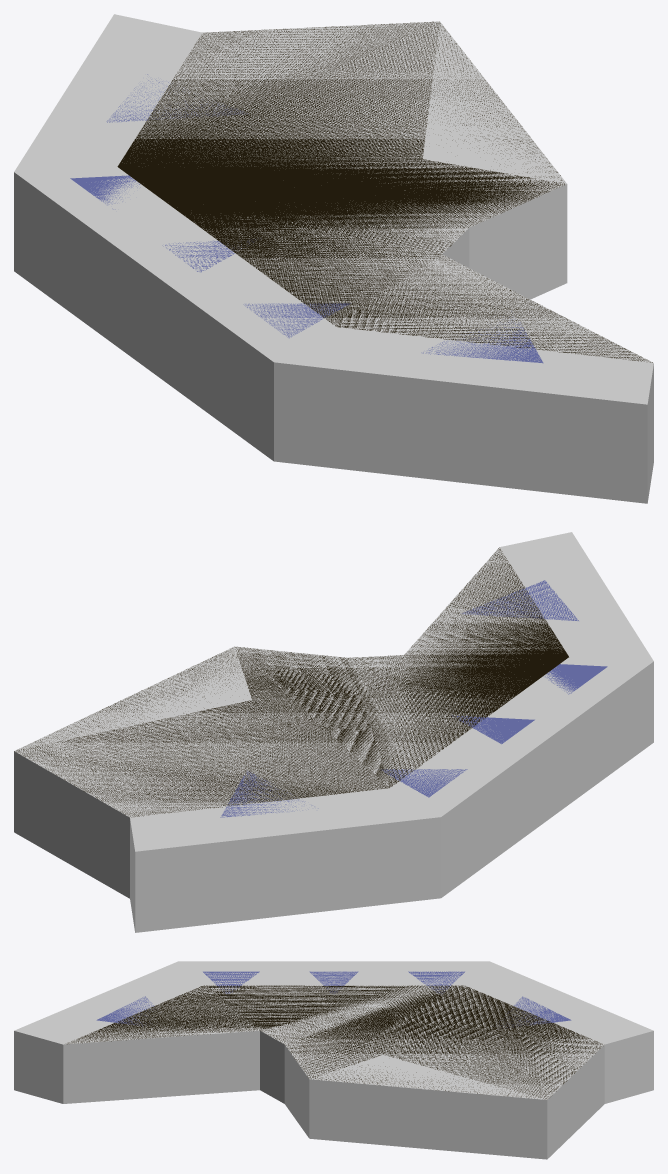
Rendered from inv_crest_part_3.obj.
3 views of the same model, one above another, from view 1: azimuth 30°, elevation 25°; view 2: azimuth 150°, elevation 25°; view 3: azimuth 270°, elevation 25° (orthographic). The views are drawn at different scales.
Size of the model in its own units: 0.3125 by 0.0625 by 0.6094.
